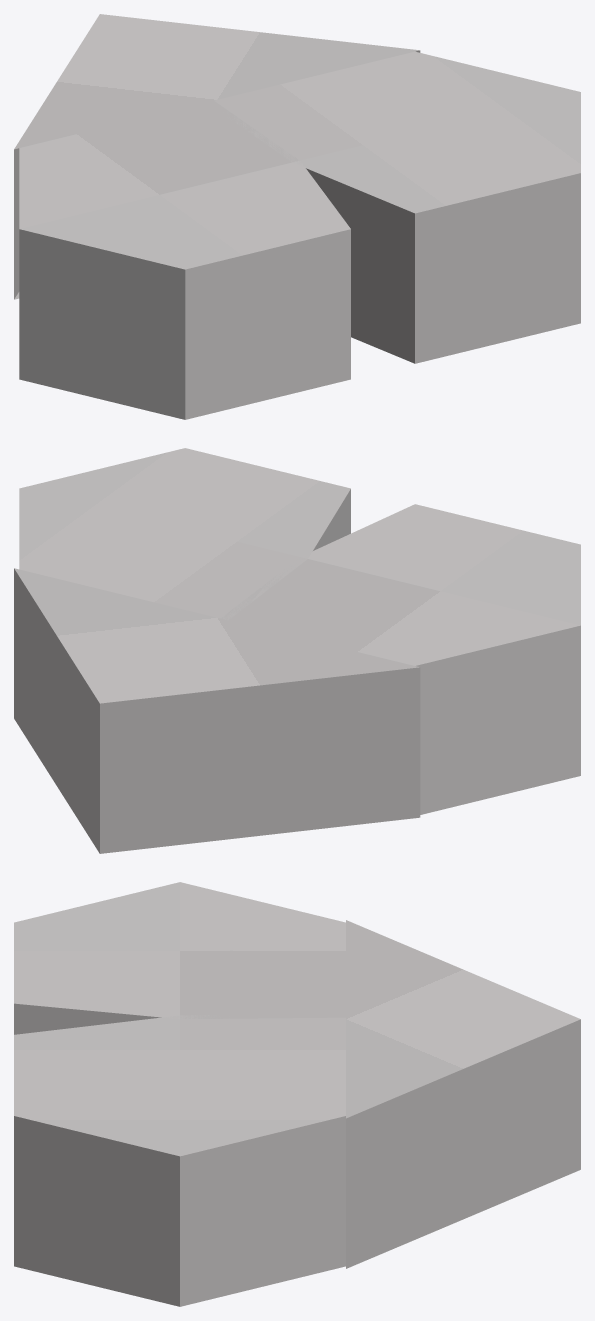
File: PeletHeart.fbx
3 views of the same model, one above another, from view 1: azimuth 30°, elevation 25°; view 2: azimuth 150°, elevation 25°; view 3: azimuth 270°, elevation 25° (orthographic).
Parts seen in each view (by area): view 1: cylinder_1, cylinder, cube; view 2: cube, cylinder_1, cylinder; view 3: cylinder, cube, cylinder_1.
Part boxes in pixels (x1,y1,x2,y2): cylinder_1: (19,100,350,419); cylinder: (214,51,580,363); cube: (14,14,420,299); cube: (14,568,420,853); cylinder_1: (221,504,580,814); cylinder: (19,448,350,620); cylinder: (14,1015,345,1306); cube: (346,920,580,1268); cylinder_1: (14,882,345,1034).
Size of the model in its own units: 24.43 by 6.25 by 21.34.
Materials: 1 (1 with a texture image).
